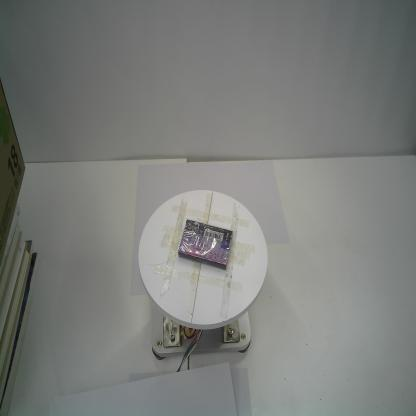Gum: (178, 220, 233, 270)
